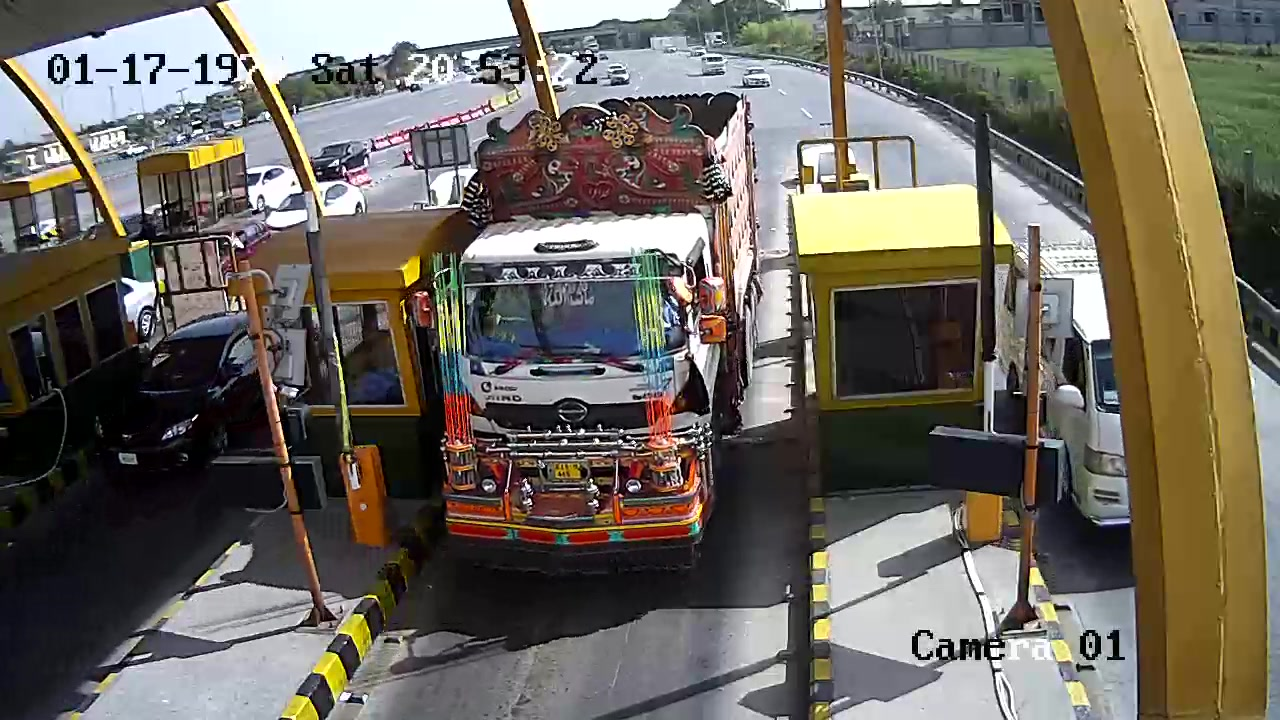F5: (432, 90, 754, 553)
